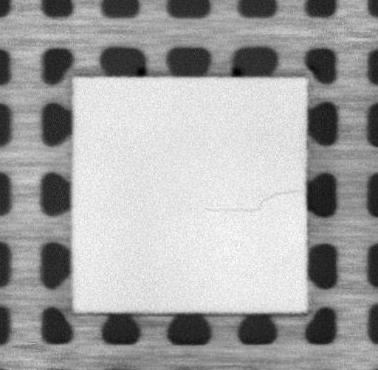DIE_CRACK: (201, 189, 299, 214)
